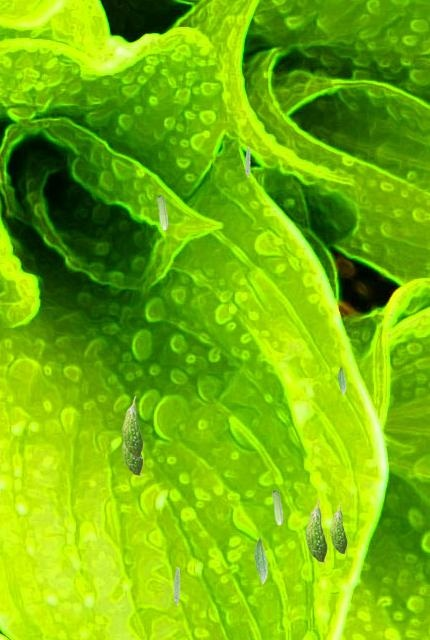ampalaya: (305, 498, 327, 563), (121, 395, 143, 459), (329, 502, 347, 555), (121, 443, 143, 477), (254, 536, 268, 585), (156, 194, 169, 230), (271, 489, 284, 525), (173, 566, 180, 606), (337, 365, 346, 396), (244, 146, 251, 178)
